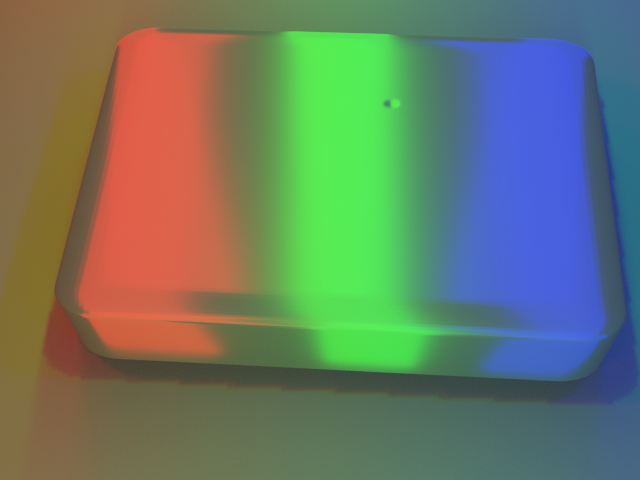dent: (376, 71, 418, 106)
